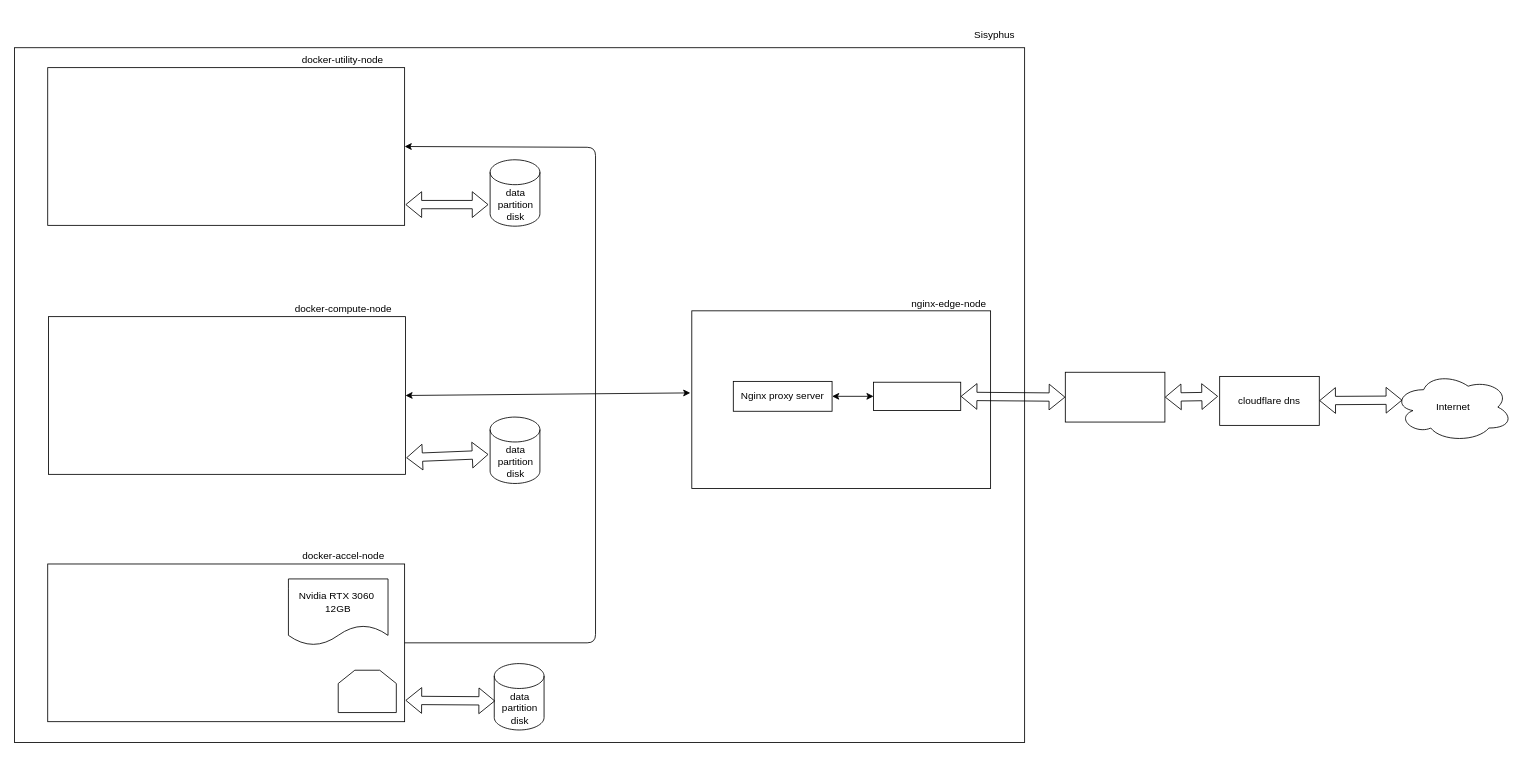
The diagram is 1527 pixels wide and 757 high, and some of its shapes have lost their labels. The centre of each missing label's shape, as x and y in pixels:
"cloudflare server" goes at pixel 1114 396.
"cloudflared" goes at pixel 917 395.
"google coral tpu" goes at pixel 366 691.
